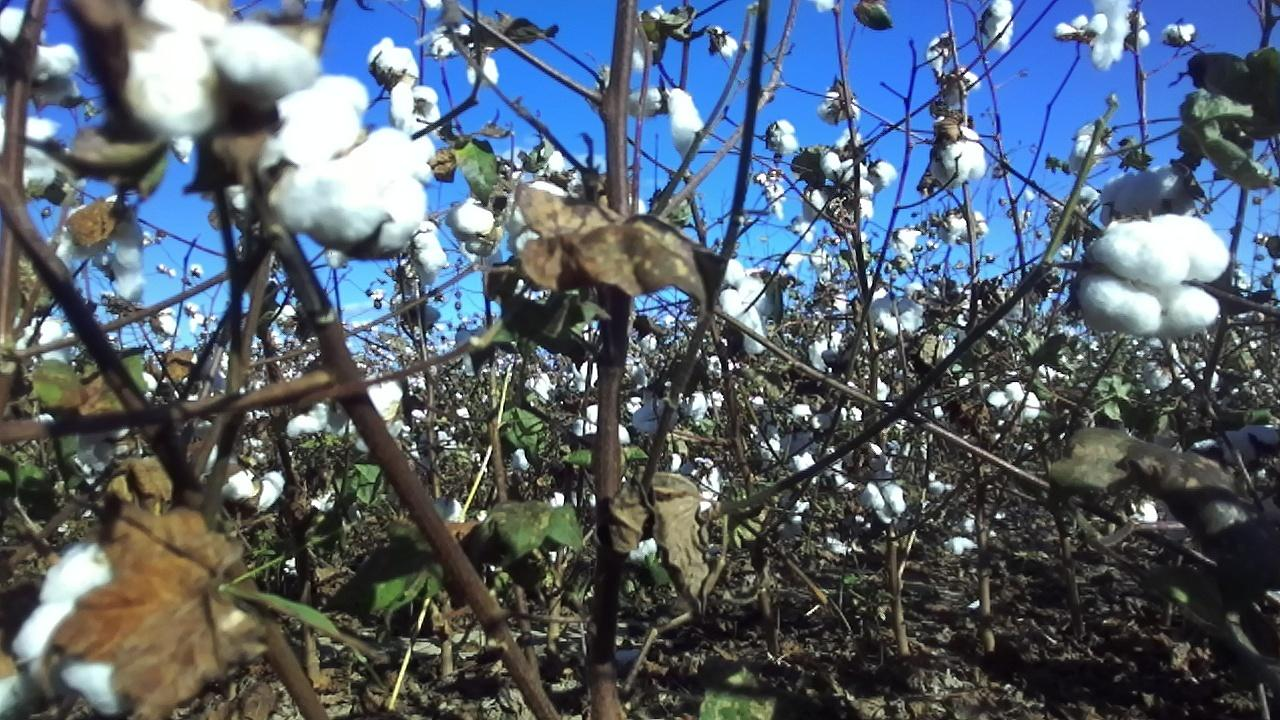cotton_ready: (12, 537, 190, 720), (267, 76, 425, 252), (130, 0, 320, 140), (1081, 217, 1230, 337), (930, 120, 986, 189), (1090, 0, 1132, 70), (368, 37, 419, 93), (448, 198, 498, 255), (669, 87, 707, 155), (391, 83, 439, 134), (412, 220, 447, 285), (983, 0, 1015, 52)
